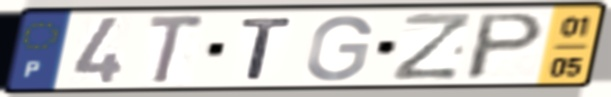4: (69, 14, 126, 87)
G: (303, 13, 376, 83)
P: (461, 10, 550, 83)
T: (144, 12, 210, 87), (237, 16, 298, 82)
Z: (387, 11, 476, 84)
